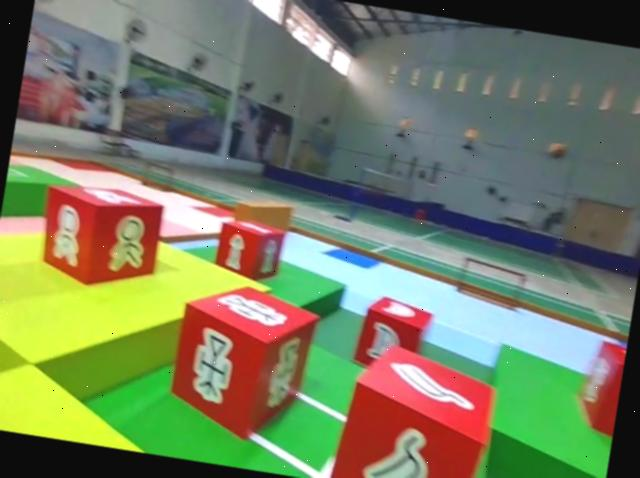R2 Real: (164, 276, 324, 445), (327, 335, 499, 478), (34, 180, 166, 293), (353, 292, 434, 377), (213, 217, 285, 282)
